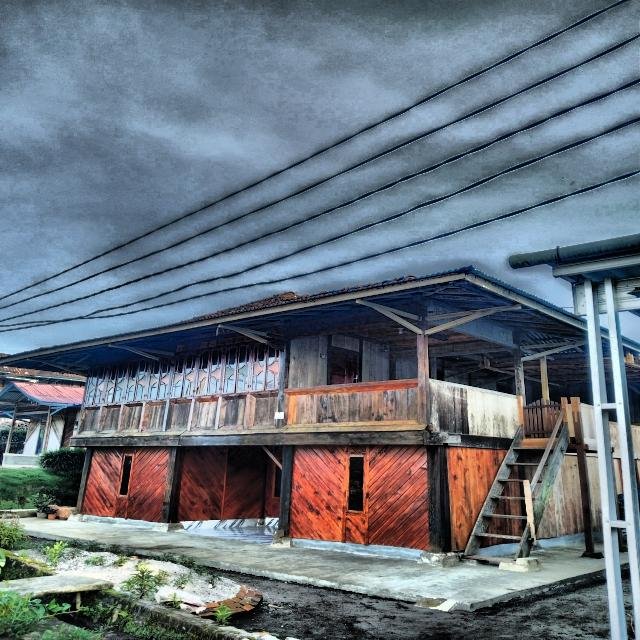column: (426, 445, 452, 553), (273, 445, 293, 537), (161, 446, 184, 523), (70, 446, 93, 514)
door: (330, 350, 358, 384)
ornamen: (281, 382, 419, 429), (429, 382, 519, 439), (247, 392, 278, 429), (217, 395, 247, 429), (190, 397, 219, 430), (164, 399, 193, 431), (142, 401, 167, 432), (118, 403, 143, 433), (97, 405, 121, 434), (78, 406, 100, 434)
roof: (0, 266, 586, 368), (0, 382, 84, 406)
stair: (462, 409, 570, 563)
wall: (289, 445, 429, 551), (164, 335, 281, 436), (78, 352, 171, 438), (177, 446, 267, 522), (81, 446, 169, 522), (447, 446, 508, 552), (288, 334, 390, 388), (536, 455, 585, 540)
window: (222, 343, 252, 394), (250, 342, 281, 391), (195, 348, 223, 396), (170, 351, 197, 398), (345, 455, 366, 514), (123, 360, 150, 402), (146, 359, 171, 400), (104, 362, 128, 403), (84, 365, 108, 405), (117, 454, 134, 497), (272, 461, 282, 499)
